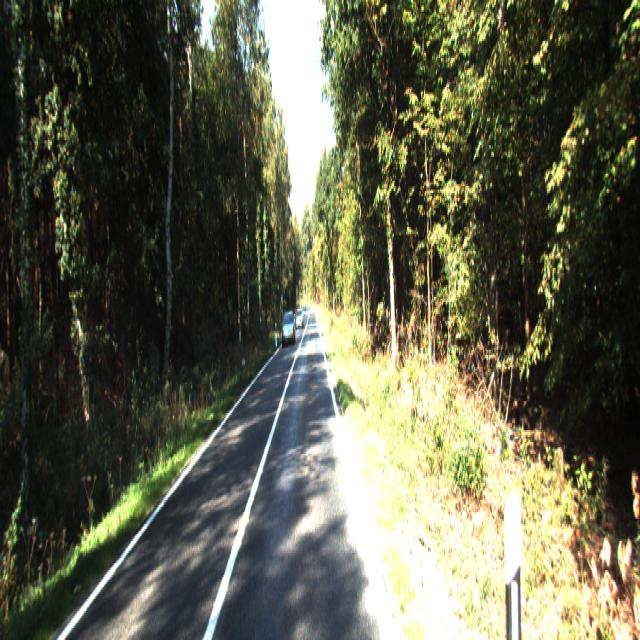Car: (281, 310, 296, 347)
